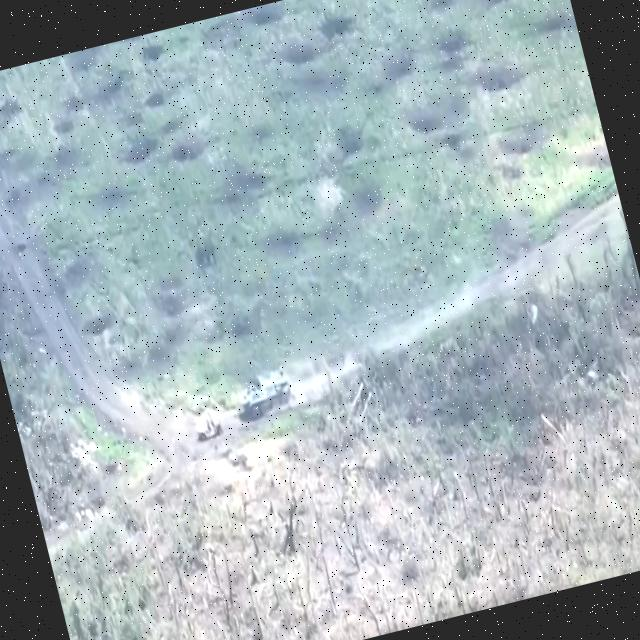APC: (231, 366, 298, 428)
Vehicle: (191, 403, 227, 447)
